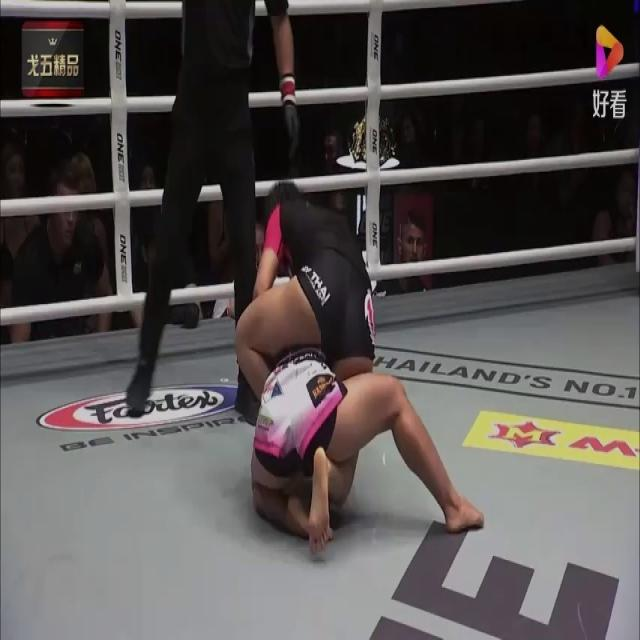fight: (235, 138, 482, 578)
non-fight: (122, 0, 297, 425)
